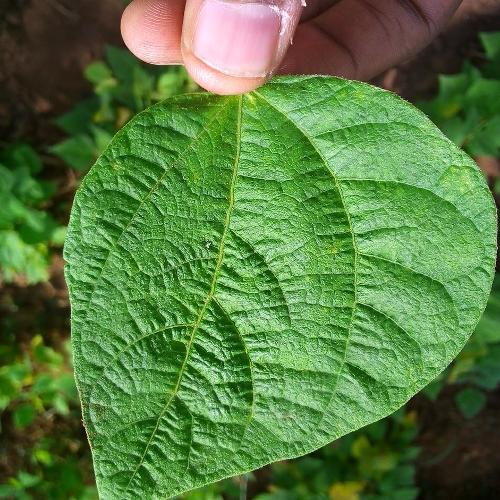mozaik: (113, 154, 434, 332)
